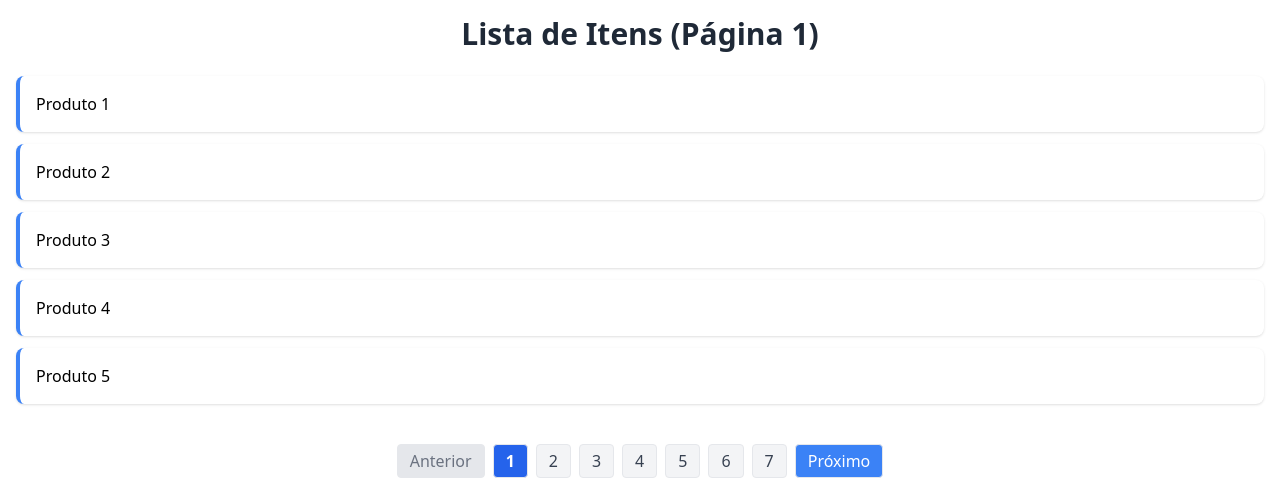
Test: App.vue › Muda para a segunda página e renderiza os itens corretos ao clicar na página 2
The width and height of the screenshot is (1280, 495).
Click the button "2". click: click(553, 461)
box: [536,444,571,478]
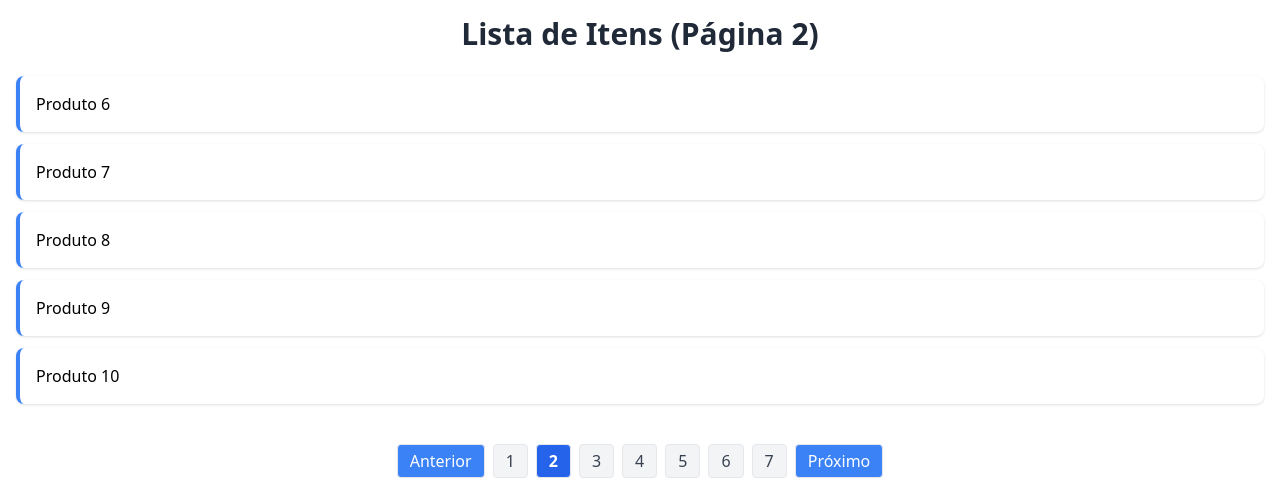
Now the text "Produto 6" is shown, box [16,76,1264,132]
Now the text "Produto 10" is shown, box [16,348,1264,404]
Now the heading "Lista de Itens (Página 2)" is shown, box [461,13,819,54]
